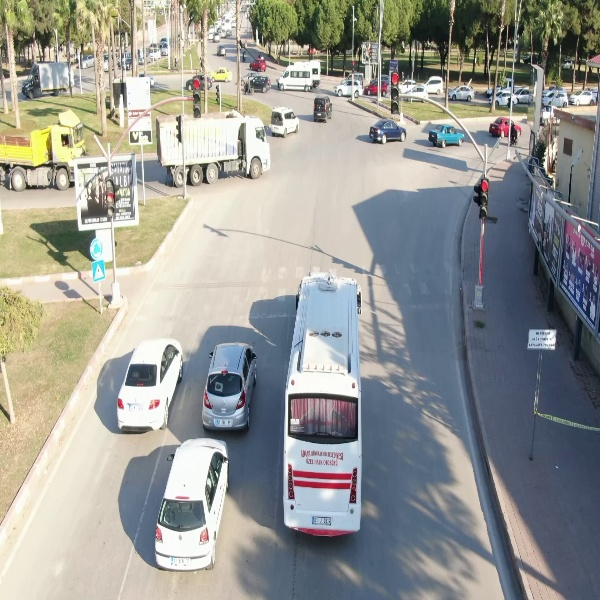car: (150, 435, 232, 575), (113, 334, 186, 433), (203, 336, 259, 440), (264, 101, 307, 139), (482, 113, 527, 144), (422, 120, 468, 149), (364, 116, 409, 145), (308, 94, 338, 128), (331, 78, 368, 101), (564, 85, 598, 108), (486, 88, 520, 109), (202, 66, 239, 85), (447, 84, 478, 106), (214, 42, 231, 59)
